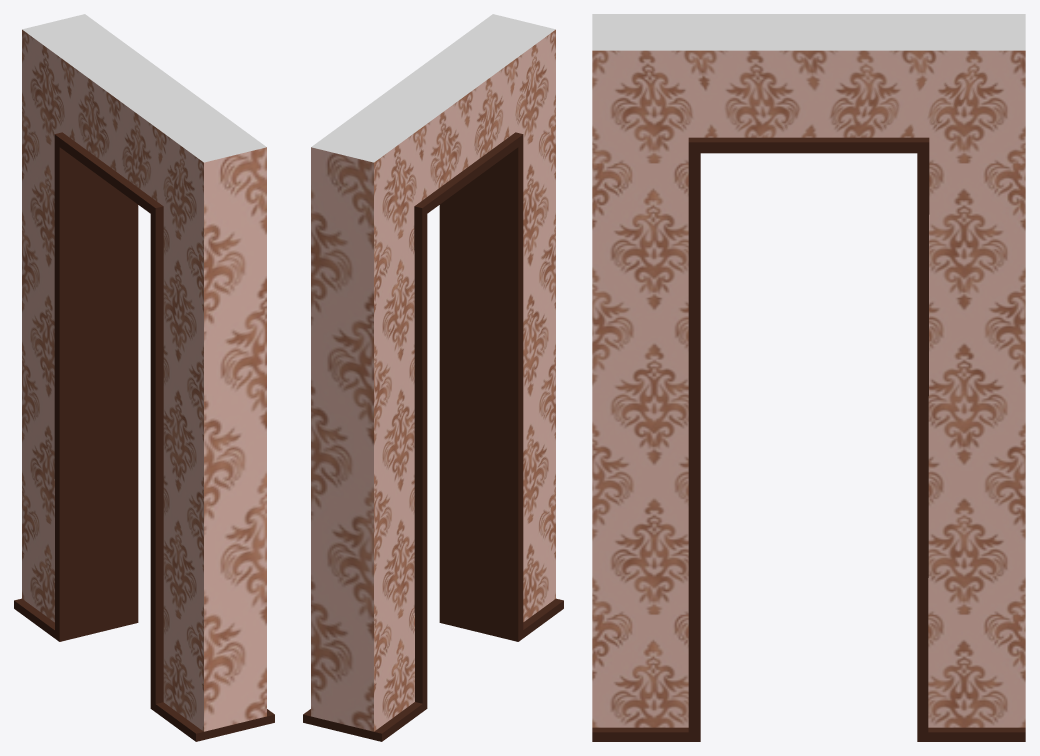
The model's file is wallDoor.fbx.
3 views of the same model, side by side, from view 1: azimuth 30°, elevation 25°; view 2: azimuth 150°, elevation 25°; view 3: azimuth 270°, elevation 25° (orthographic). The views are drawn at different scales.
Parts seen in each view (by area): view 1: wallDoor; view 2: wallDoor; view 3: wallDoor.
Part boxes in pixels (x1=…): wallDoor: x1=14, y1=14, x2=274, y2=741; wallDoor: x1=303, y1=14, x2=563, y2=741; wallDoor: x1=592, y1=14, x2=1025, y2=741.
Size of the model in its own units: 100 by 700 by 400.
